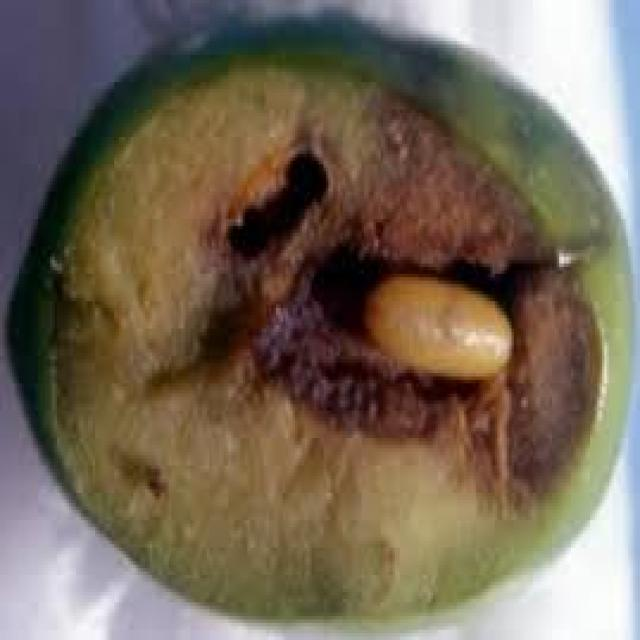Olive Fruit Fly: (17, 14, 630, 626)
